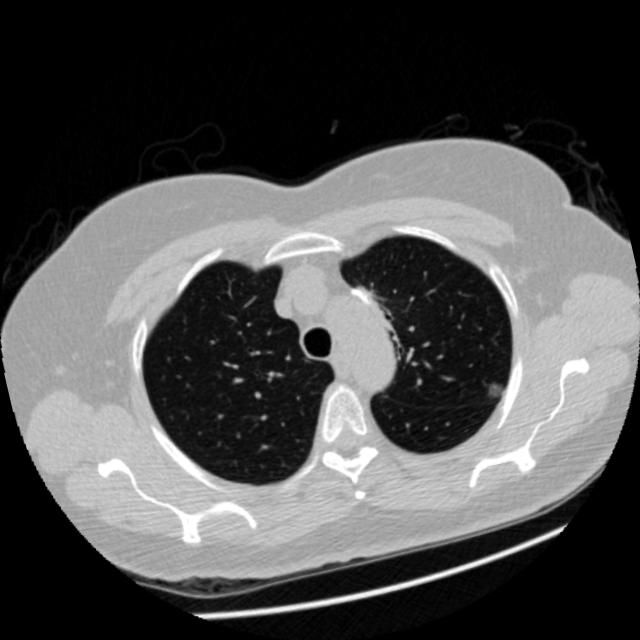nodule: (472, 368, 514, 410)
